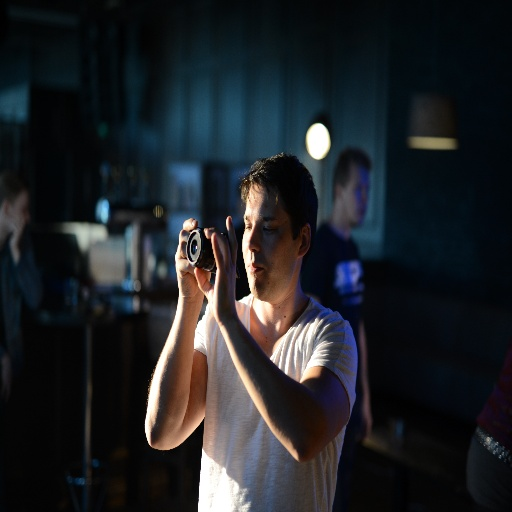hand: (173, 217, 212, 304), (203, 224, 239, 299), (9, 210, 25, 250), (358, 404, 373, 445)
